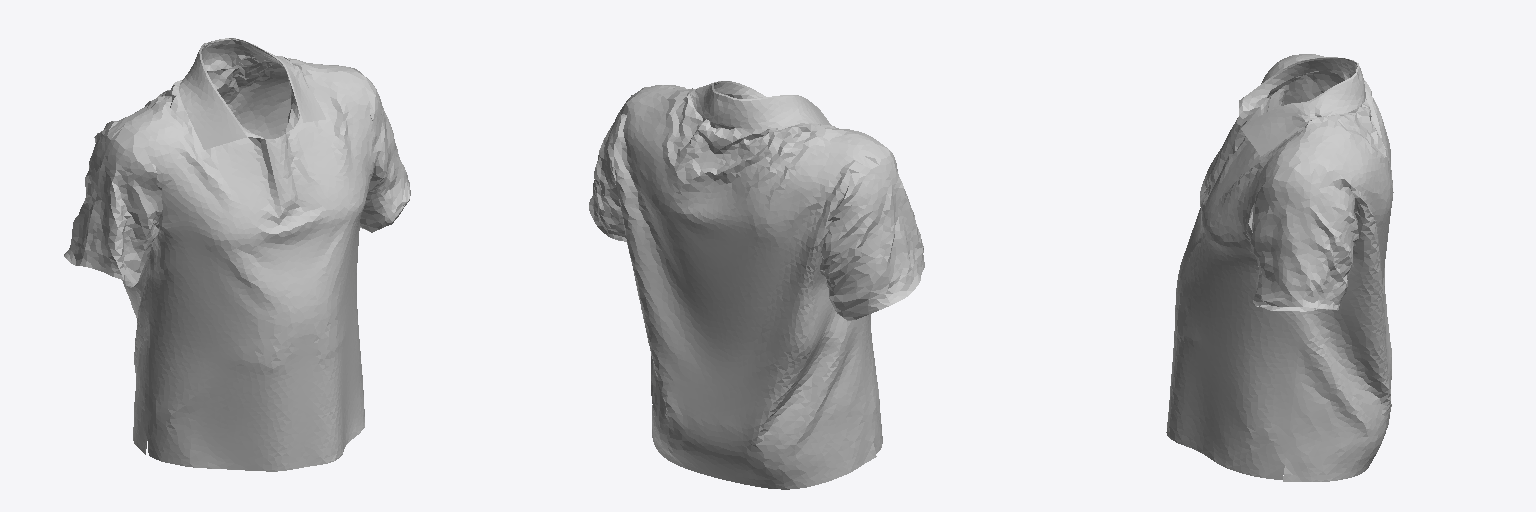
The model's file is Large_Average.obj.
3 views of the same model, side by side, from view 1: azimuth 30°, elevation 25°; view 2: azimuth 150°, elevation 25°; view 3: azimuth 270°, elevation 25° (orthographic).
Parts seen in each view (by area): view 1: polo3-30.003; view 2: polo3-30.003; view 3: polo3-30.003.
Part boxes in pixels (x1,y1,x2,y2): polo3-30.003: (64,38,410,471); polo3-30.003: (589,81,924,489); polo3-30.003: (1166,54,1393,481).
Size of the model in its own units: 0.6235 by 0.6848 by 0.3746.